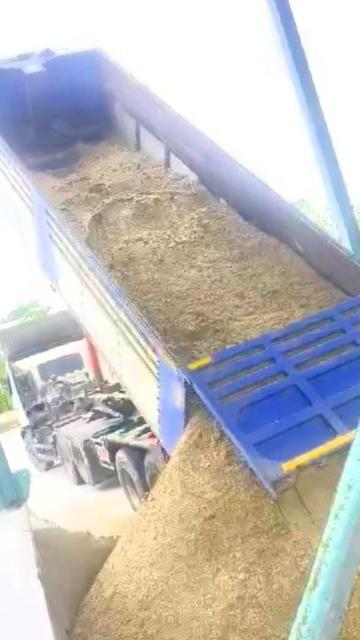sand: (37, 144, 343, 362), (72, 416, 336, 640), (27, 514, 116, 640), (322, 437, 360, 640)
